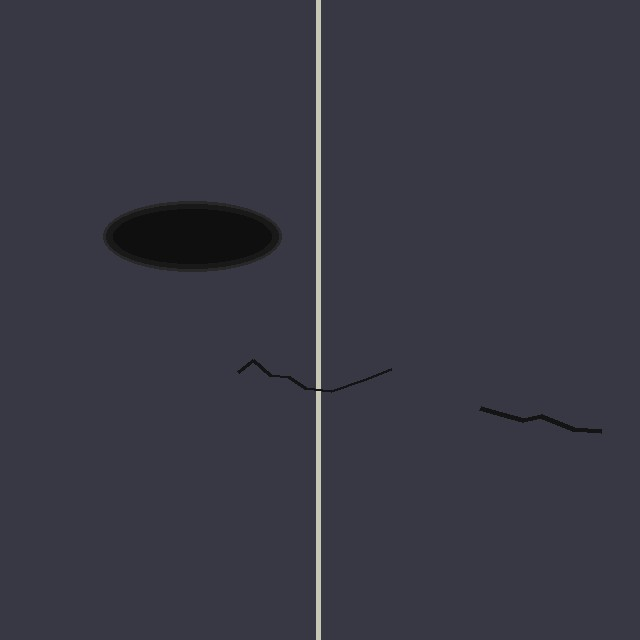crack: (238, 307, 368, 437), (480, 386, 586, 431)
pothole: (103, 201, 281, 271)
